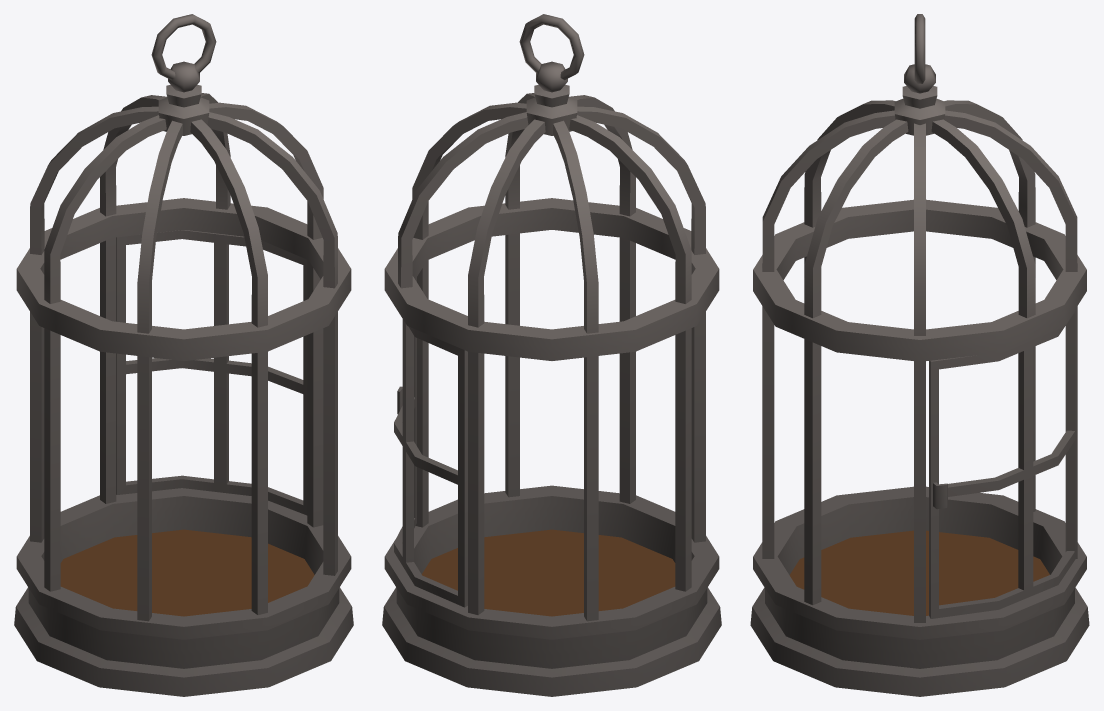
Rendered from Birdcage.fbx.
3 renders of one model, left to right at view 1: azimuth 30°, elevation 25°; view 2: azimuth 150°, elevation 25°; view 3: azimuth 270°, elevation 25°, orthographic.
Parts seen in each view (by area): view 1: BirdCage, BirdCage_Door, BirdCage_Ring; view 2: BirdCage, BirdCage_Door, BirdCage_Ring; view 3: BirdCage, BirdCage_Door, BirdCage_Ring.
Boxes of the visible parts, x1,y1,x2,y2 form: BirdCage: [14, 61, 353, 696]; BirdCage_Door: [116, 230, 307, 515]; BirdCage_Ring: [151, 14, 216, 80]; BirdCage: [382, 61, 721, 696]; BirdCage_Door: [394, 277, 467, 607]; BirdCage_Ring: [519, 14, 584, 80]; BirdCage: [750, 64, 1089, 696]; BirdCage_Door: [929, 306, 1077, 618]; BirdCage_Ring: [914, 14, 925, 83].
Size of the model in its own units: 35 by 69.1 by 35.
